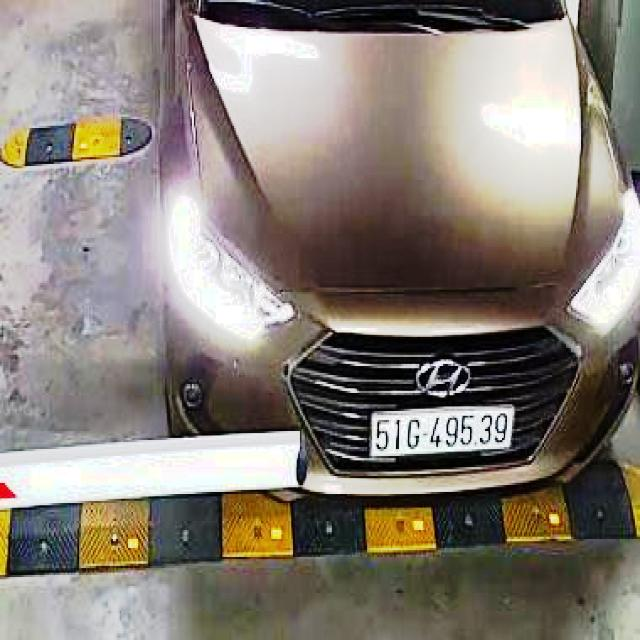license_plate: (373, 406, 517, 457)
